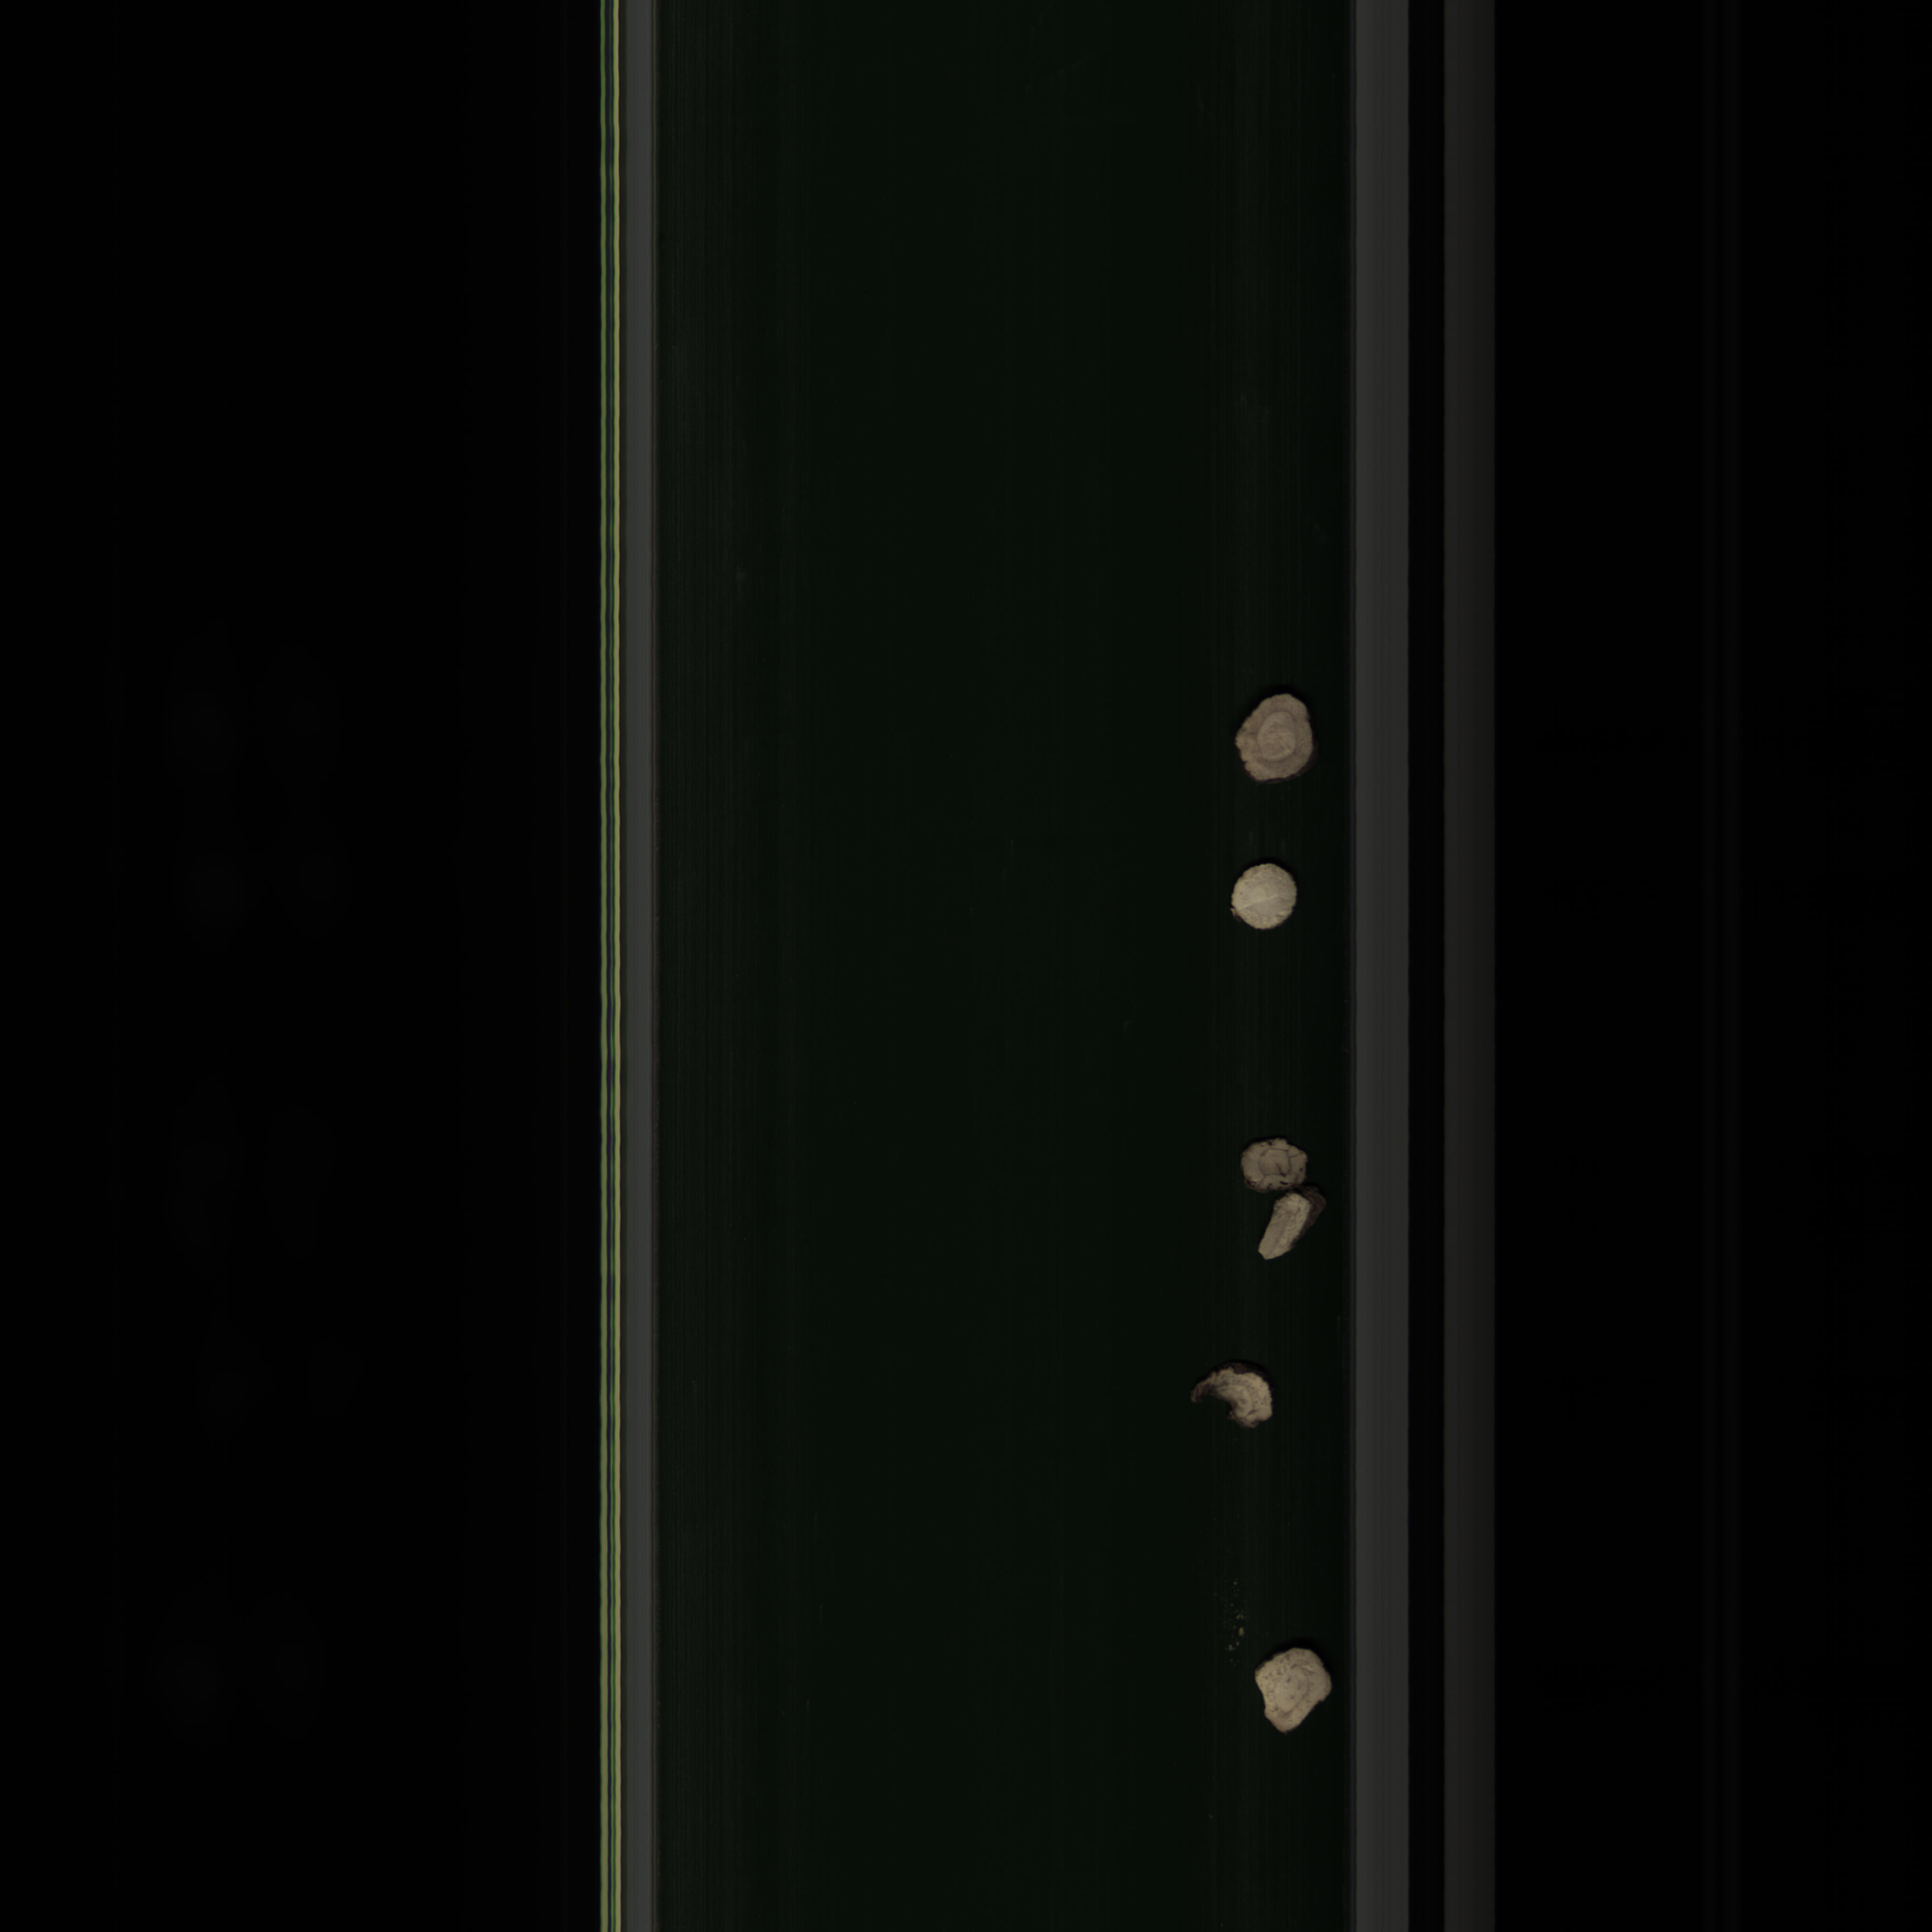debris: (1244, 1640, 1339, 1741), (1251, 1185, 1339, 1267)
moldy: (1187, 1355, 1293, 1433), (1228, 1139, 1325, 1192)
